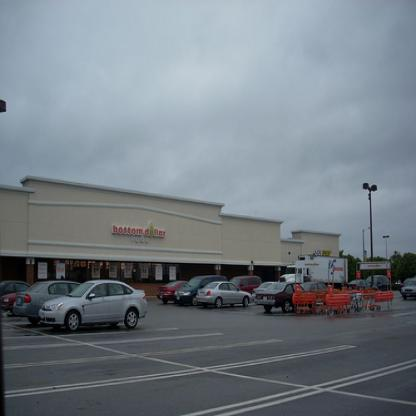car: (39, 278, 148, 334), (12, 280, 82, 325), (175, 271, 229, 308), (257, 276, 307, 313), (195, 280, 253, 310), (155, 280, 188, 305), (0, 275, 32, 296), (231, 274, 262, 293), (1, 289, 17, 318), (369, 273, 391, 293), (250, 281, 277, 297), (346, 278, 379, 290), (401, 279, 415, 303), (301, 280, 330, 291)
